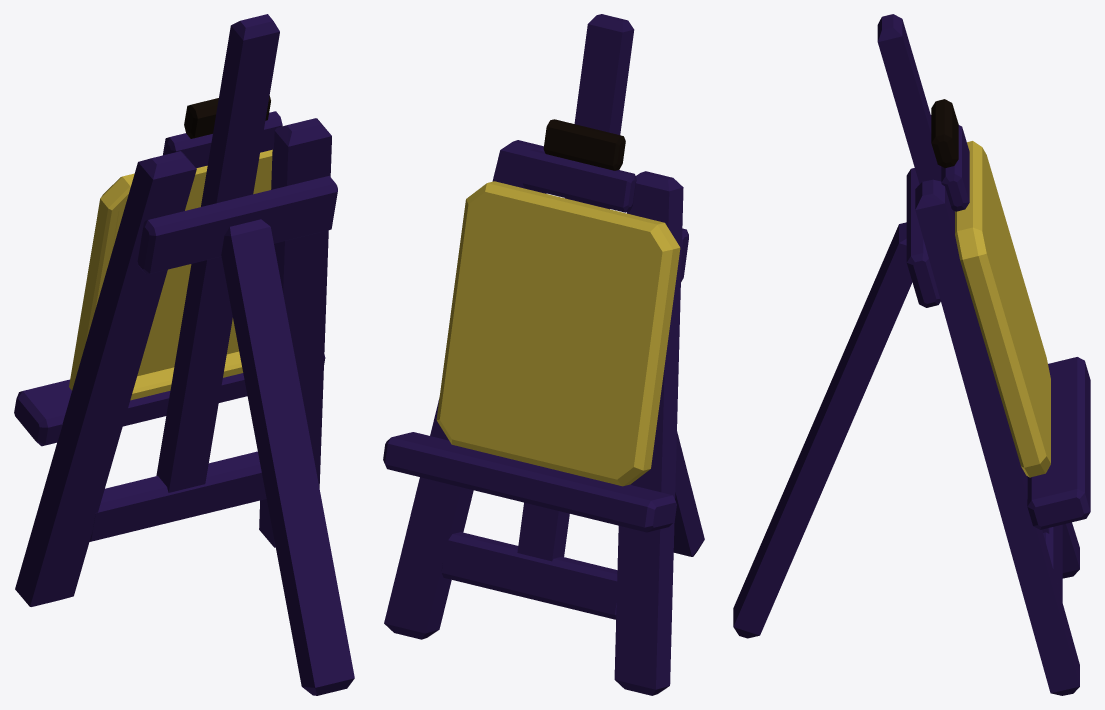
The model's file is Easel.FBX.
3 views of the same model, side by side, from view 1: azimuth 30°, elevation 25°; view 2: azimuth 150°, elevation 25°; view 3: azimuth 270°, elevation 25° (orthographic). The views are drawn at different scales.
Parts seen in each view (by area): view 1: Easel; view 2: Easel; view 3: Easel.
Part boxes in pixels (<box>): Easel: <box>14,14,354,695</box>; Easel: <box>383,14,704,695</box>; Easel: <box>733,14,1090,695</box>.
Size of the model in its own units: 605 by 660 by 1245.
